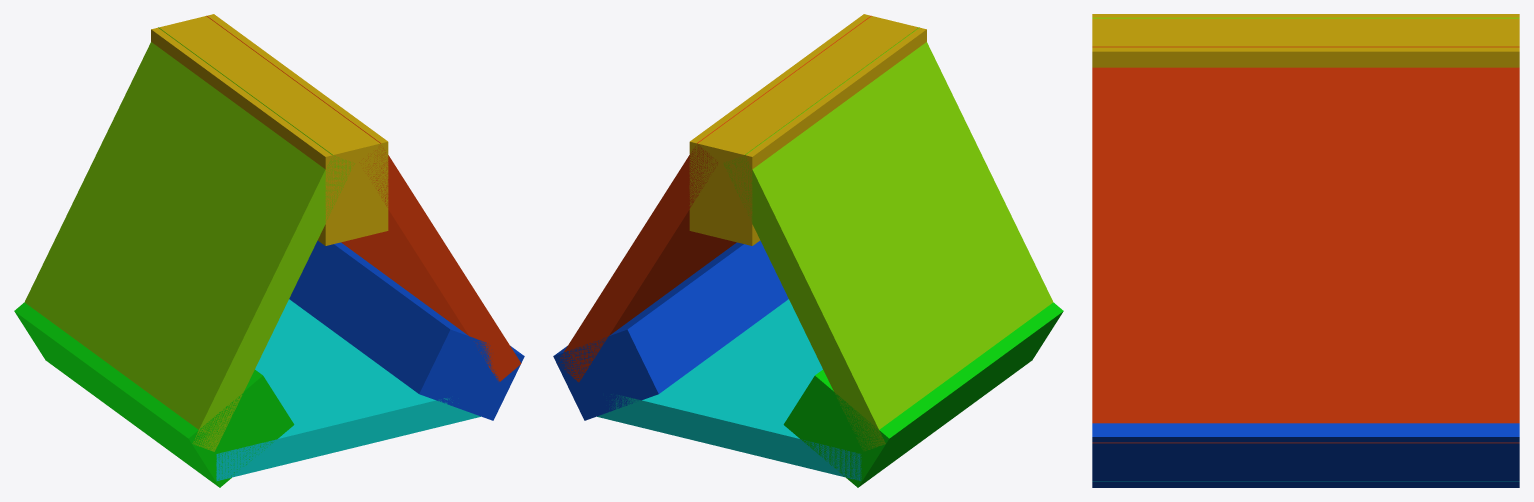
The model's file is block_simple_collision.OBJ.
3 renders of one model, left to right at view 1: azimuth 30°, elevation 25°; view 2: azimuth 150°, elevation 25°; view 3: azimuth 270°, elevation 25°, orthographic. The views are drawn at different scales.
Visible parts, largest first — view 1: block_simple_collision; view 2: block_simple_collision; view 3: block_simple_collision.
Part boxes in pixels (<box>): block_simple_collision: <box>14,14,524,487</box>; block_simple_collision: <box>553,14,1063,487</box>; block_simple_collision: <box>1092,14,1519,487</box>.
Size of the model in its own units: 0.0169 by 0.0147 by 0.0152.
